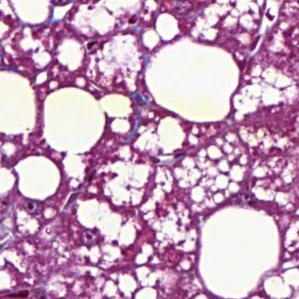steatosis: (40, 88, 105, 154), (13, 156, 69, 203)
